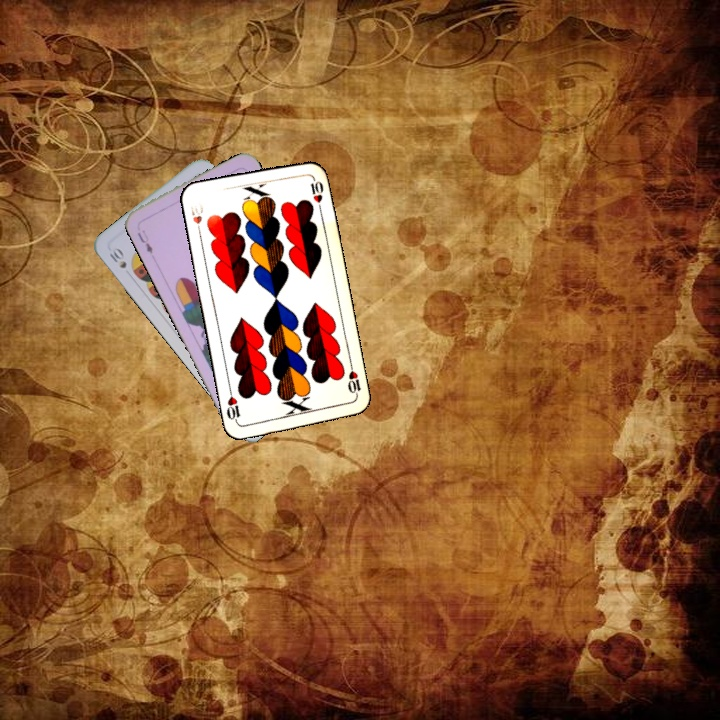EU: (133, 226, 155, 256)
H10: (343, 360, 363, 400), (186, 201, 206, 238)
S10: (105, 243, 129, 271)
